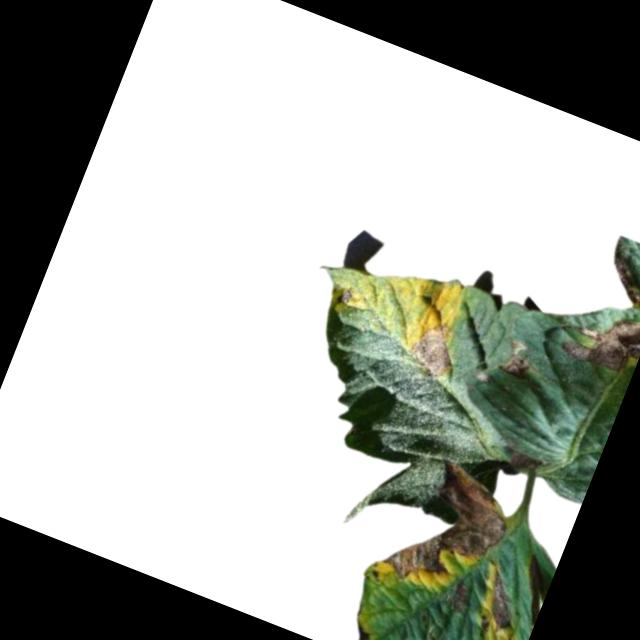Early_blight: (376, 447, 524, 613), (559, 247, 640, 383), (402, 313, 466, 383), (475, 565, 531, 633), (499, 338, 538, 381), (339, 617, 375, 640), (331, 281, 359, 310), (494, 636, 527, 640)
